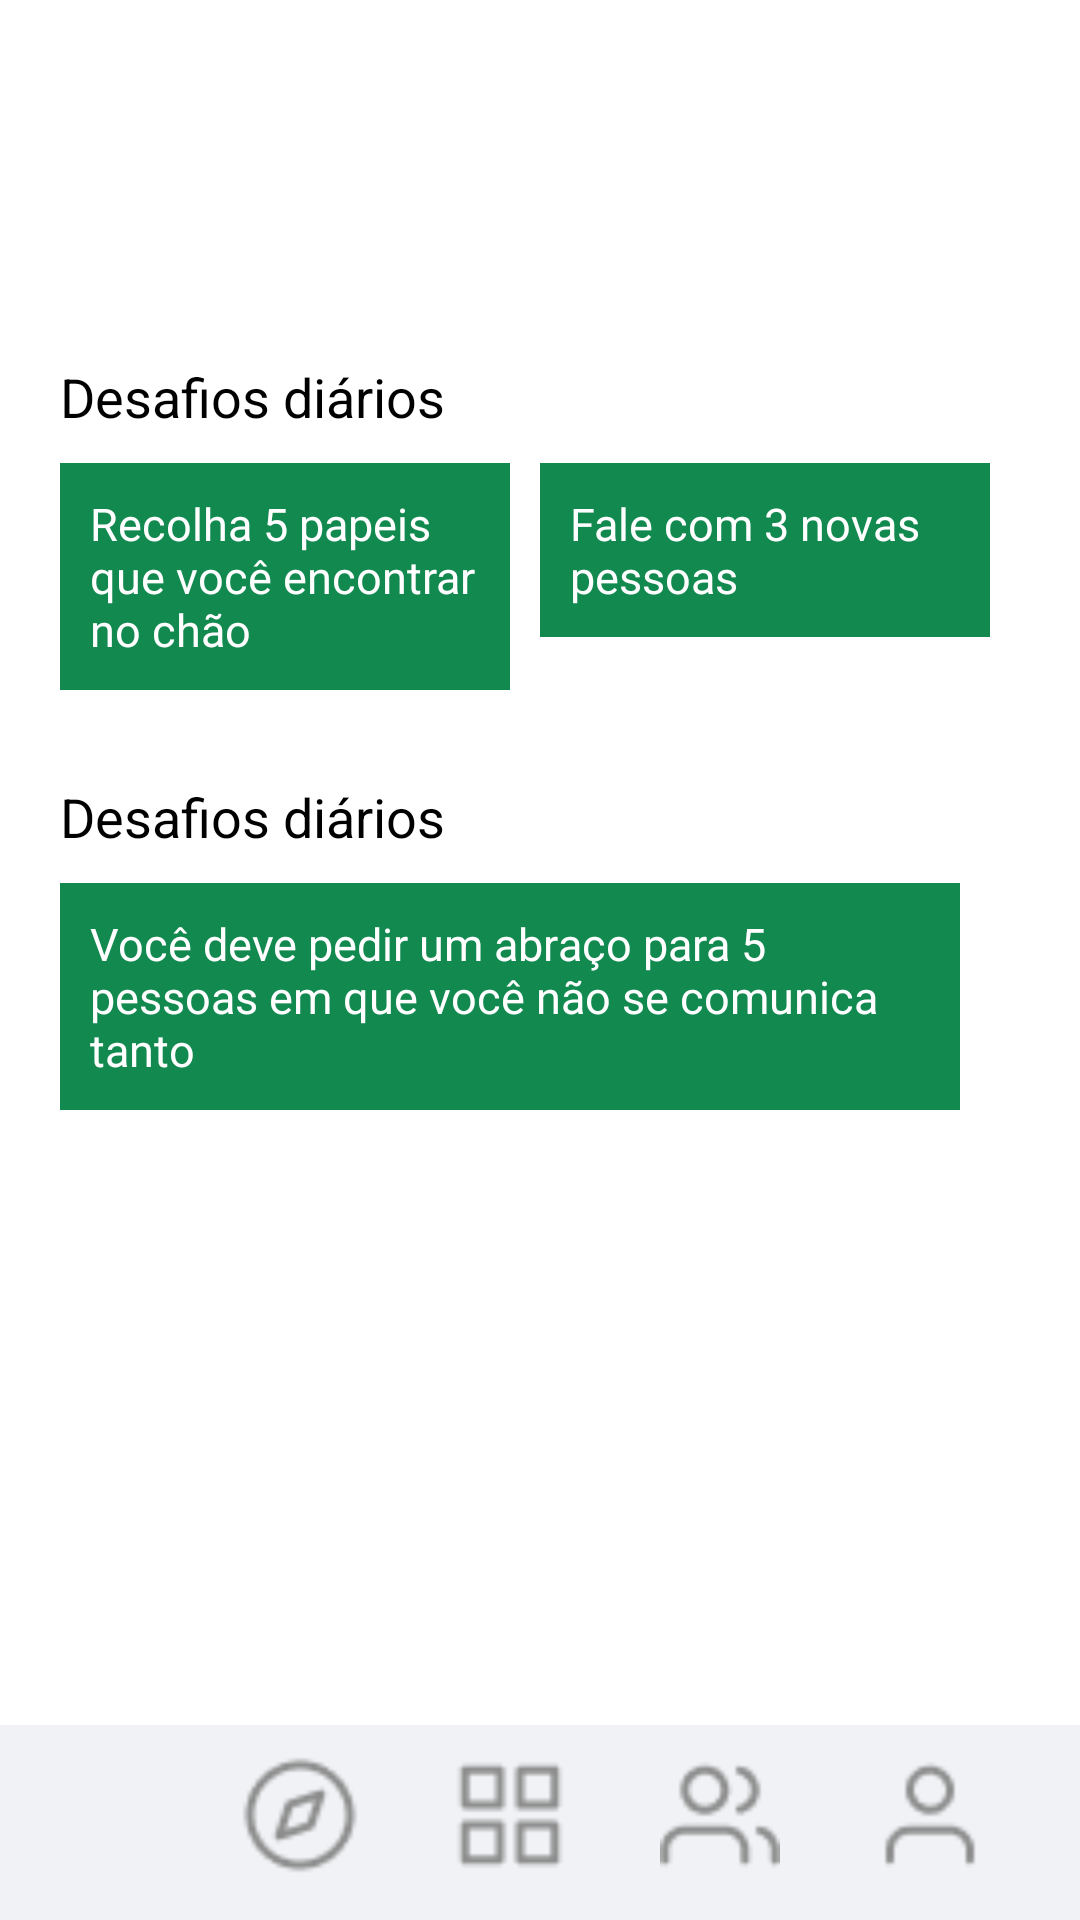

Icons on this 1080w x 1920h Android screen, each with the point to tap as point (x, y):
compass: point (300, 1815)
grid: point (510, 1815)
profile: point (930, 1814)
users: point (720, 1815)
